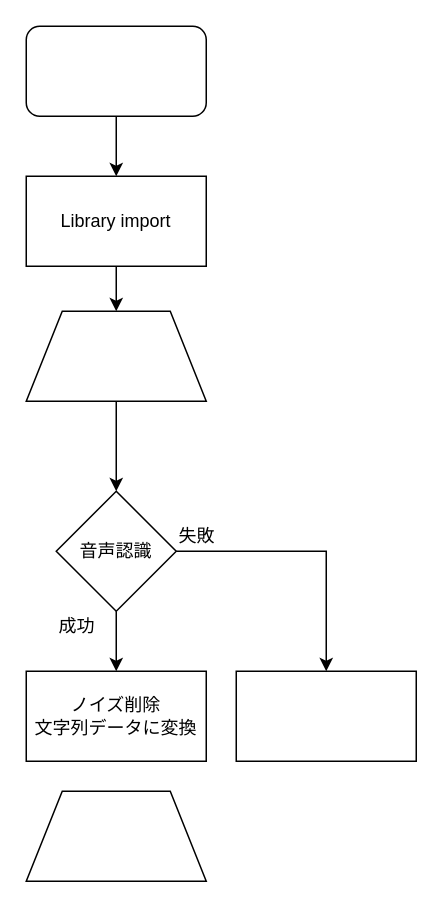
The diagram is 443 pixels wide and 908 high, and some of its shapes have lost their labels. The shapes that lost their labels are listed below. From the top down, each one's centre as x and y in pixels, then its label:
point 115,70: Start
point 115,355: True
